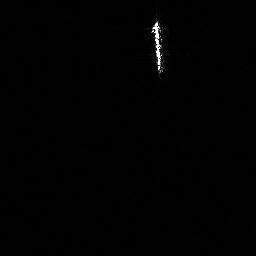ship: (147, 16, 168, 78)
